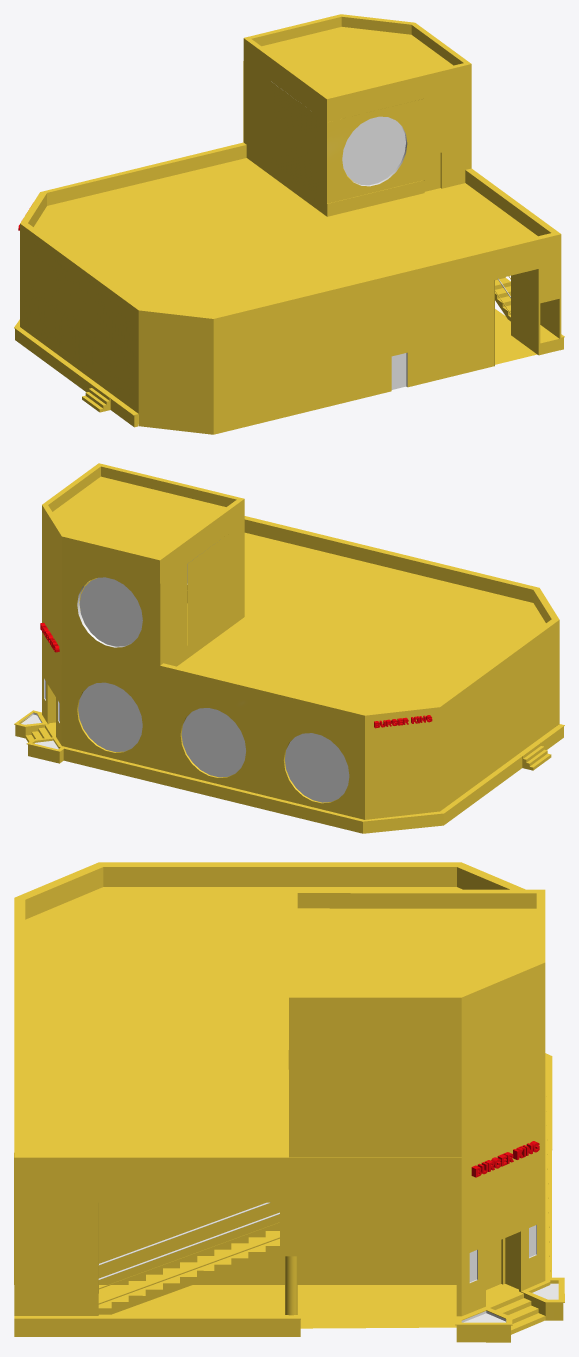
Rendered from Burger King.FBX.
3 views of the same model, one above another, from view 1: azimuth 30°, elevation 25°; view 2: azimuth 150°, elevation 25°; view 3: azimuth 270°, elevation 25° (orthographic). The views are drawn at different scales.
Parts seen in each view (by area): view 1: Burger King; view 2: Burger King; view 3: Burger King.
Part boxes in pixels (x1,y1,x2,y2): Burger King: (14, 14, 564, 434); Burger King: (14, 463, 564, 833); Burger King: (14, 862, 564, 1342).
Size of the model in its own units: 2667 by 1334 by 1972.
